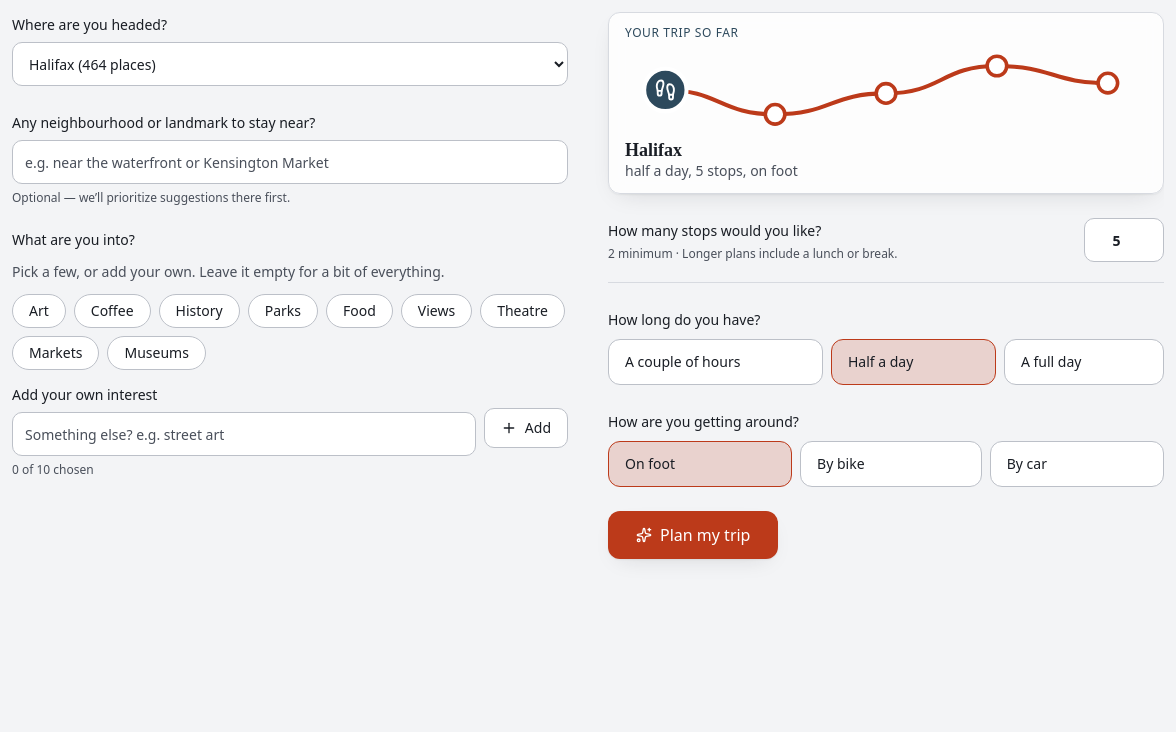
Scenario: PlanForm feedback › shows how many interests are chosen
This screenshot has width=1176, height=732.
Check: the text "0 of 10 chosen" is shown, box [12,461,94,478]
What coordinates should you click on to do the following:
click the button "art"
I would click on:
 (39, 311)
Its box is [12,294,66,328].
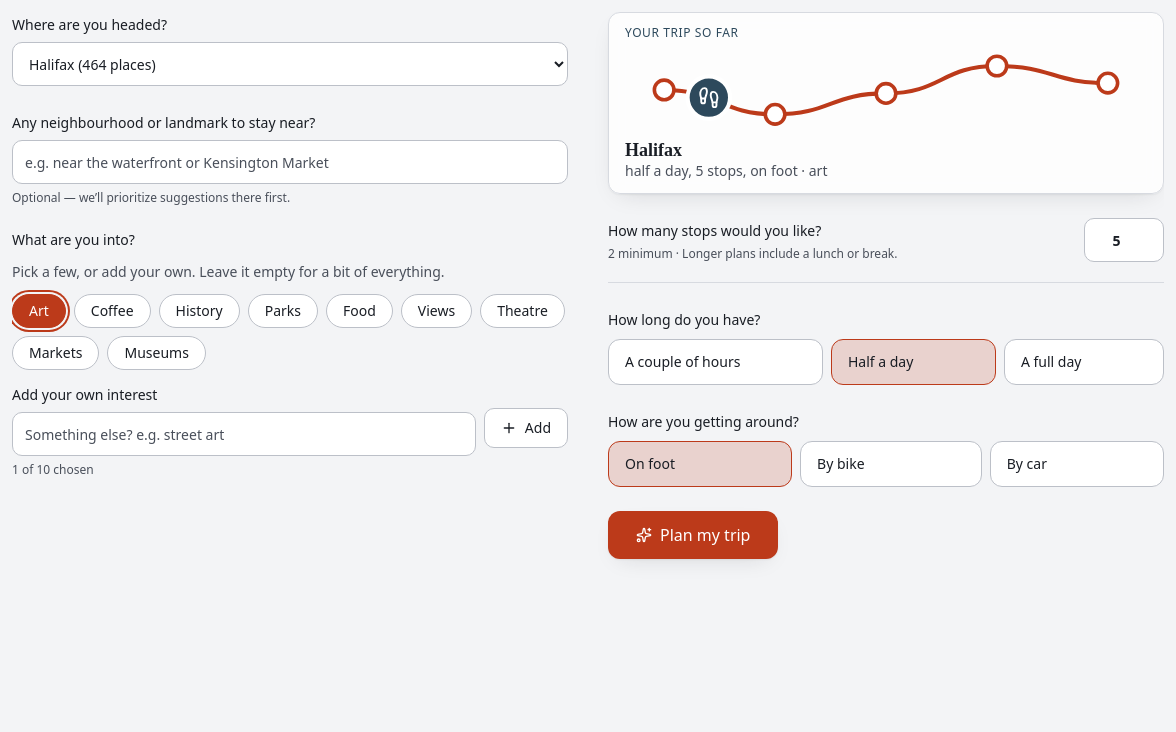
Check: the text "1 of 10 chosen" is shown, box [12,461,94,478]
